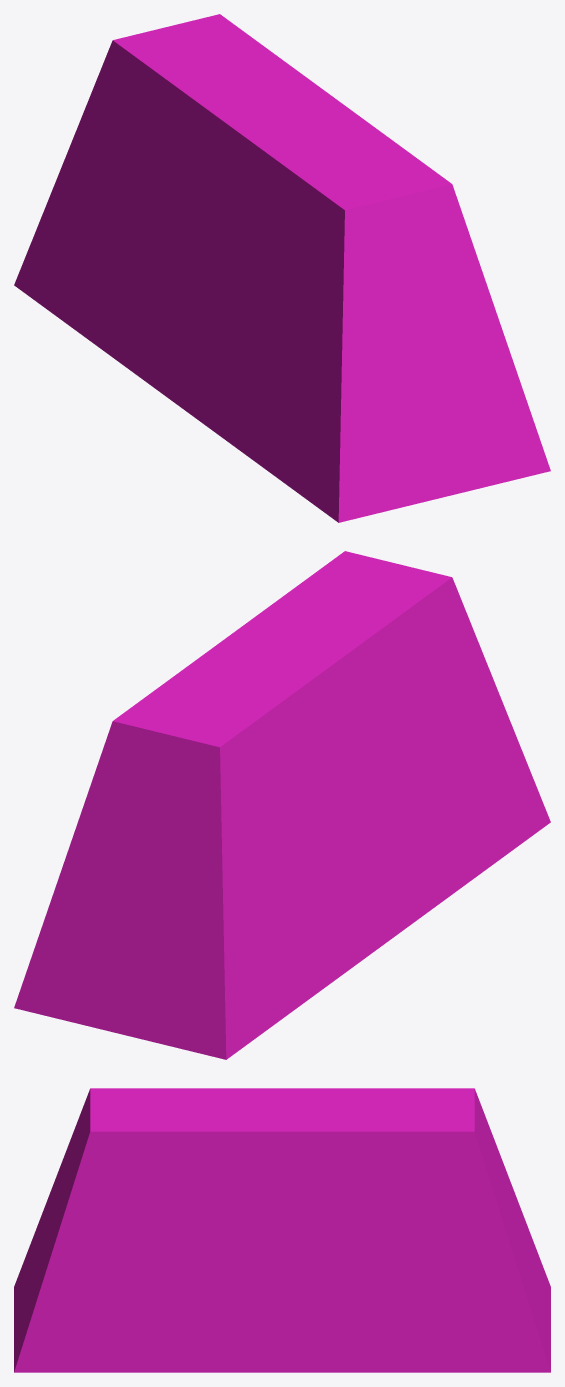
The model's file is barricade1.fbx.
The picture shows the model from 3 angles, top to bottom: view 1: azimuth 30°, elevation 25°; view 2: azimuth 150°, elevation 25°; view 3: azimuth 270°, elevation 25°; orthographic projection. The views are drawn at different scales.
Parts seen in each view (by area): view 1: barricade1_COL; view 2: barricade1_COL; view 3: barricade1_COL.
Part boxes in pixels (x1=…): barricade1_COL: x1=14, y1=14, x2=550, y2=522; barricade1_COL: x1=14, y1=551, x2=550, y2=1059; barricade1_COL: x1=14, y1=1088, x2=550, y2=1372.
Bounding box in the file's own units: 167 × 442 × 200.
